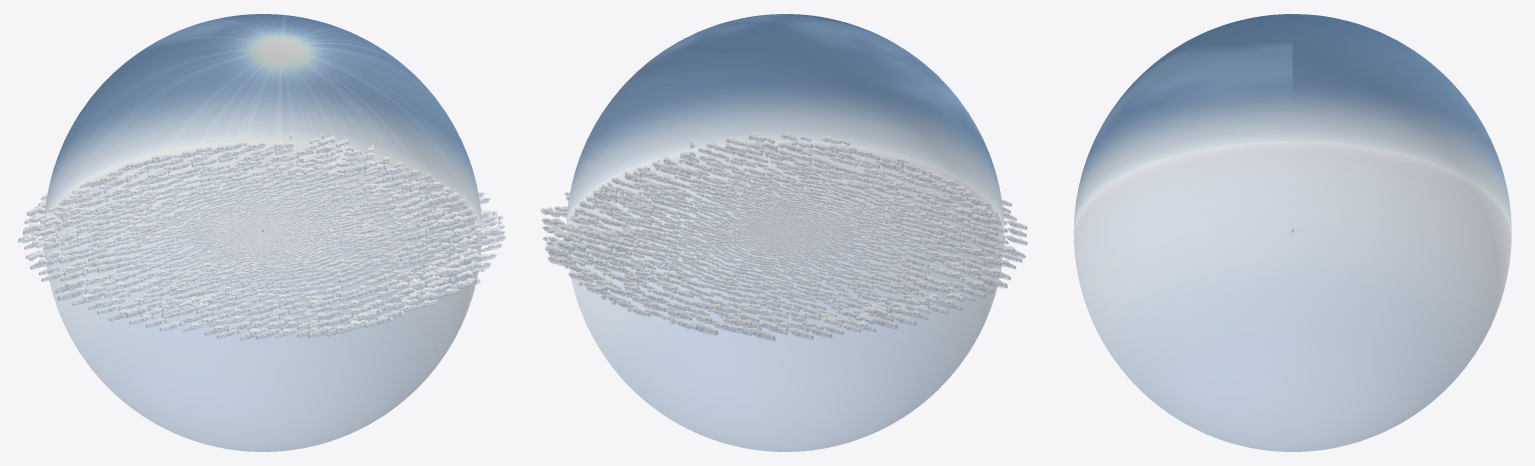
File: dumeg-skyship.glb
3 renders of one model, left to right at view 1: azimuth 30°, elevation 25°; view 2: azimuth 150°, elevation 25°; view 3: azimuth 270°, elevation 25°, orthographic.
Parts seen in each view (by area): view 1: SkyDome, CloudSea; view 2: SkyDome, CloudSea; view 3: SkyDome.
Part boxes in pixels (x1,y1,x2,y2): SkyDome: (44,14,481,451); CloudSea: (18,134,506,340); SkyDome: (566,14,1004,451); CloudSea: (541,131,1027,340); SkyDome: (1073,14,1511,451).
Bounding box in the file's own units: 958 × 840 × 881.
Materials: 12 (4 with a texture image).
